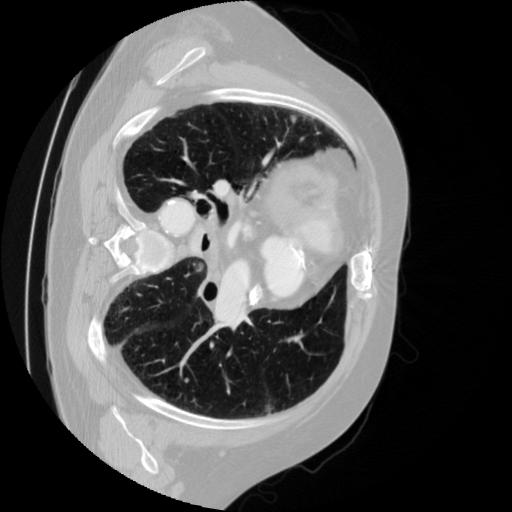nodule: (289, 115, 300, 126)
